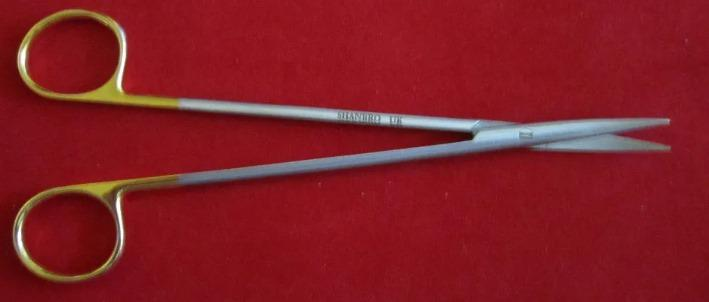Metzenbaum Sciccors: (7, 0, 672, 287)
